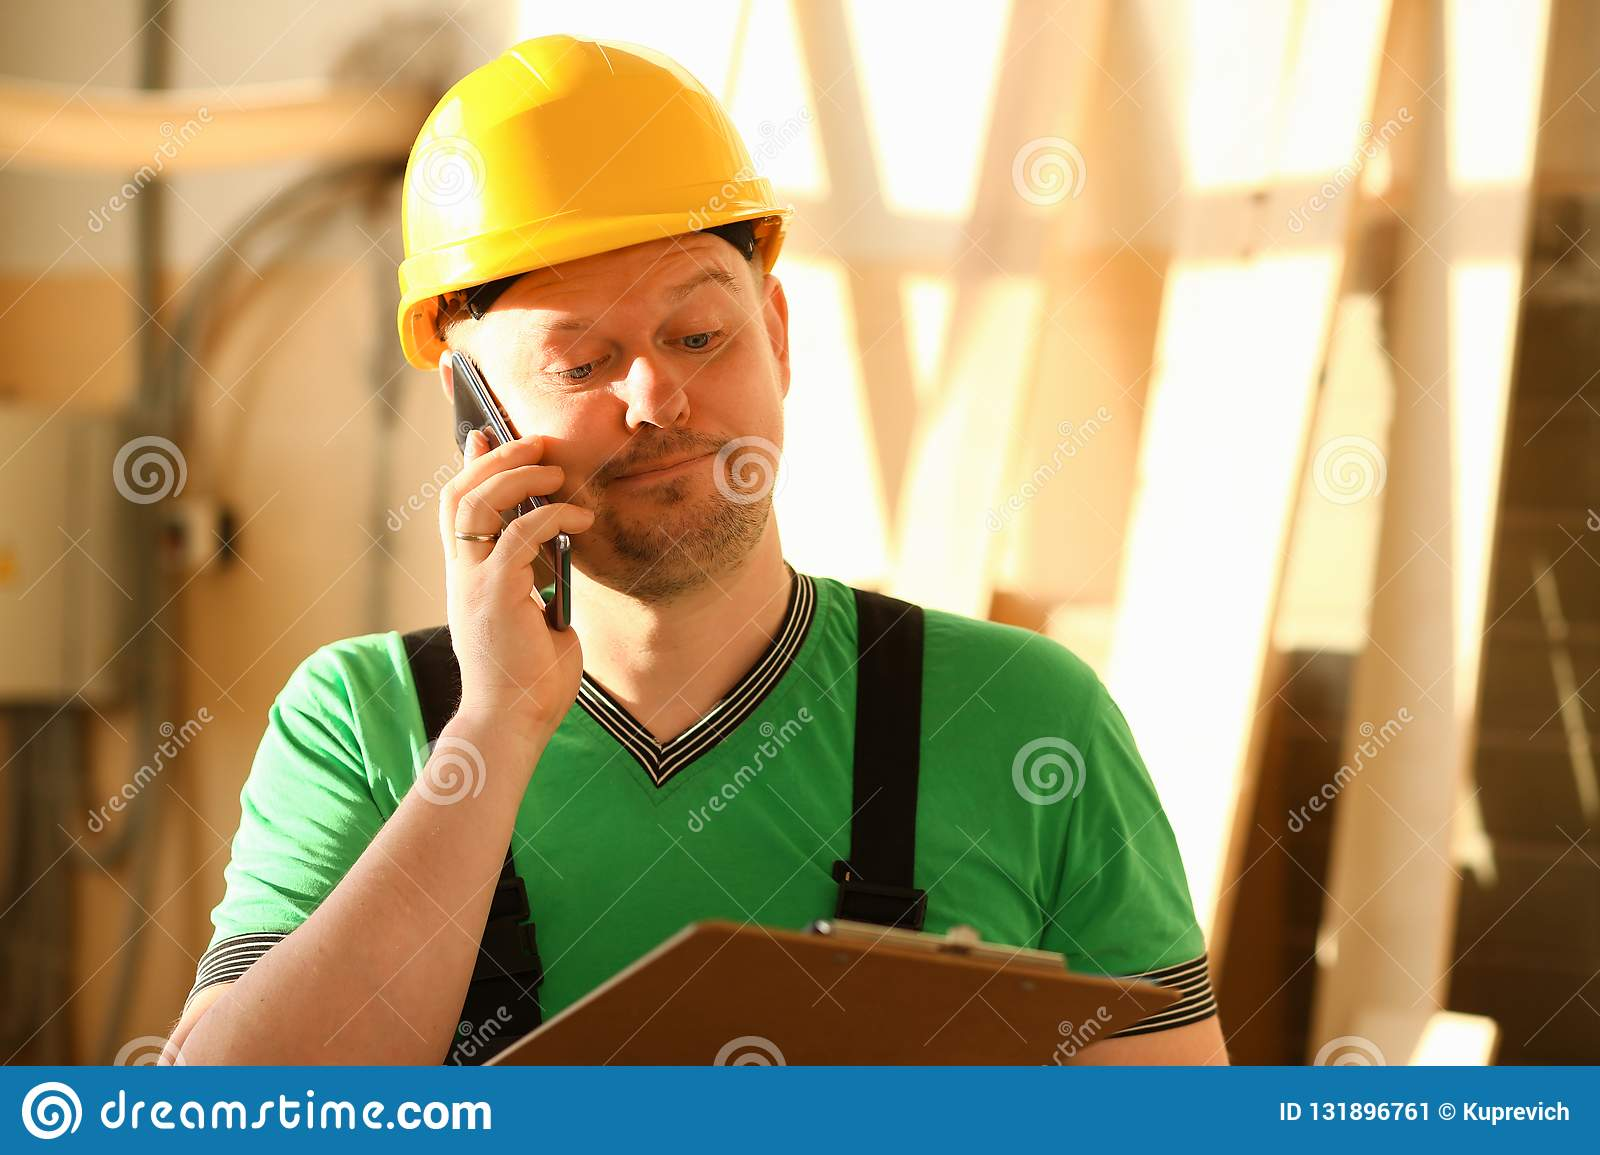phone: (448, 354, 583, 637)
talk: (431, 265, 781, 750)
